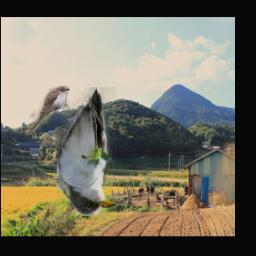Cuckoo: (58, 87, 117, 216), (26, 86, 70, 135)
